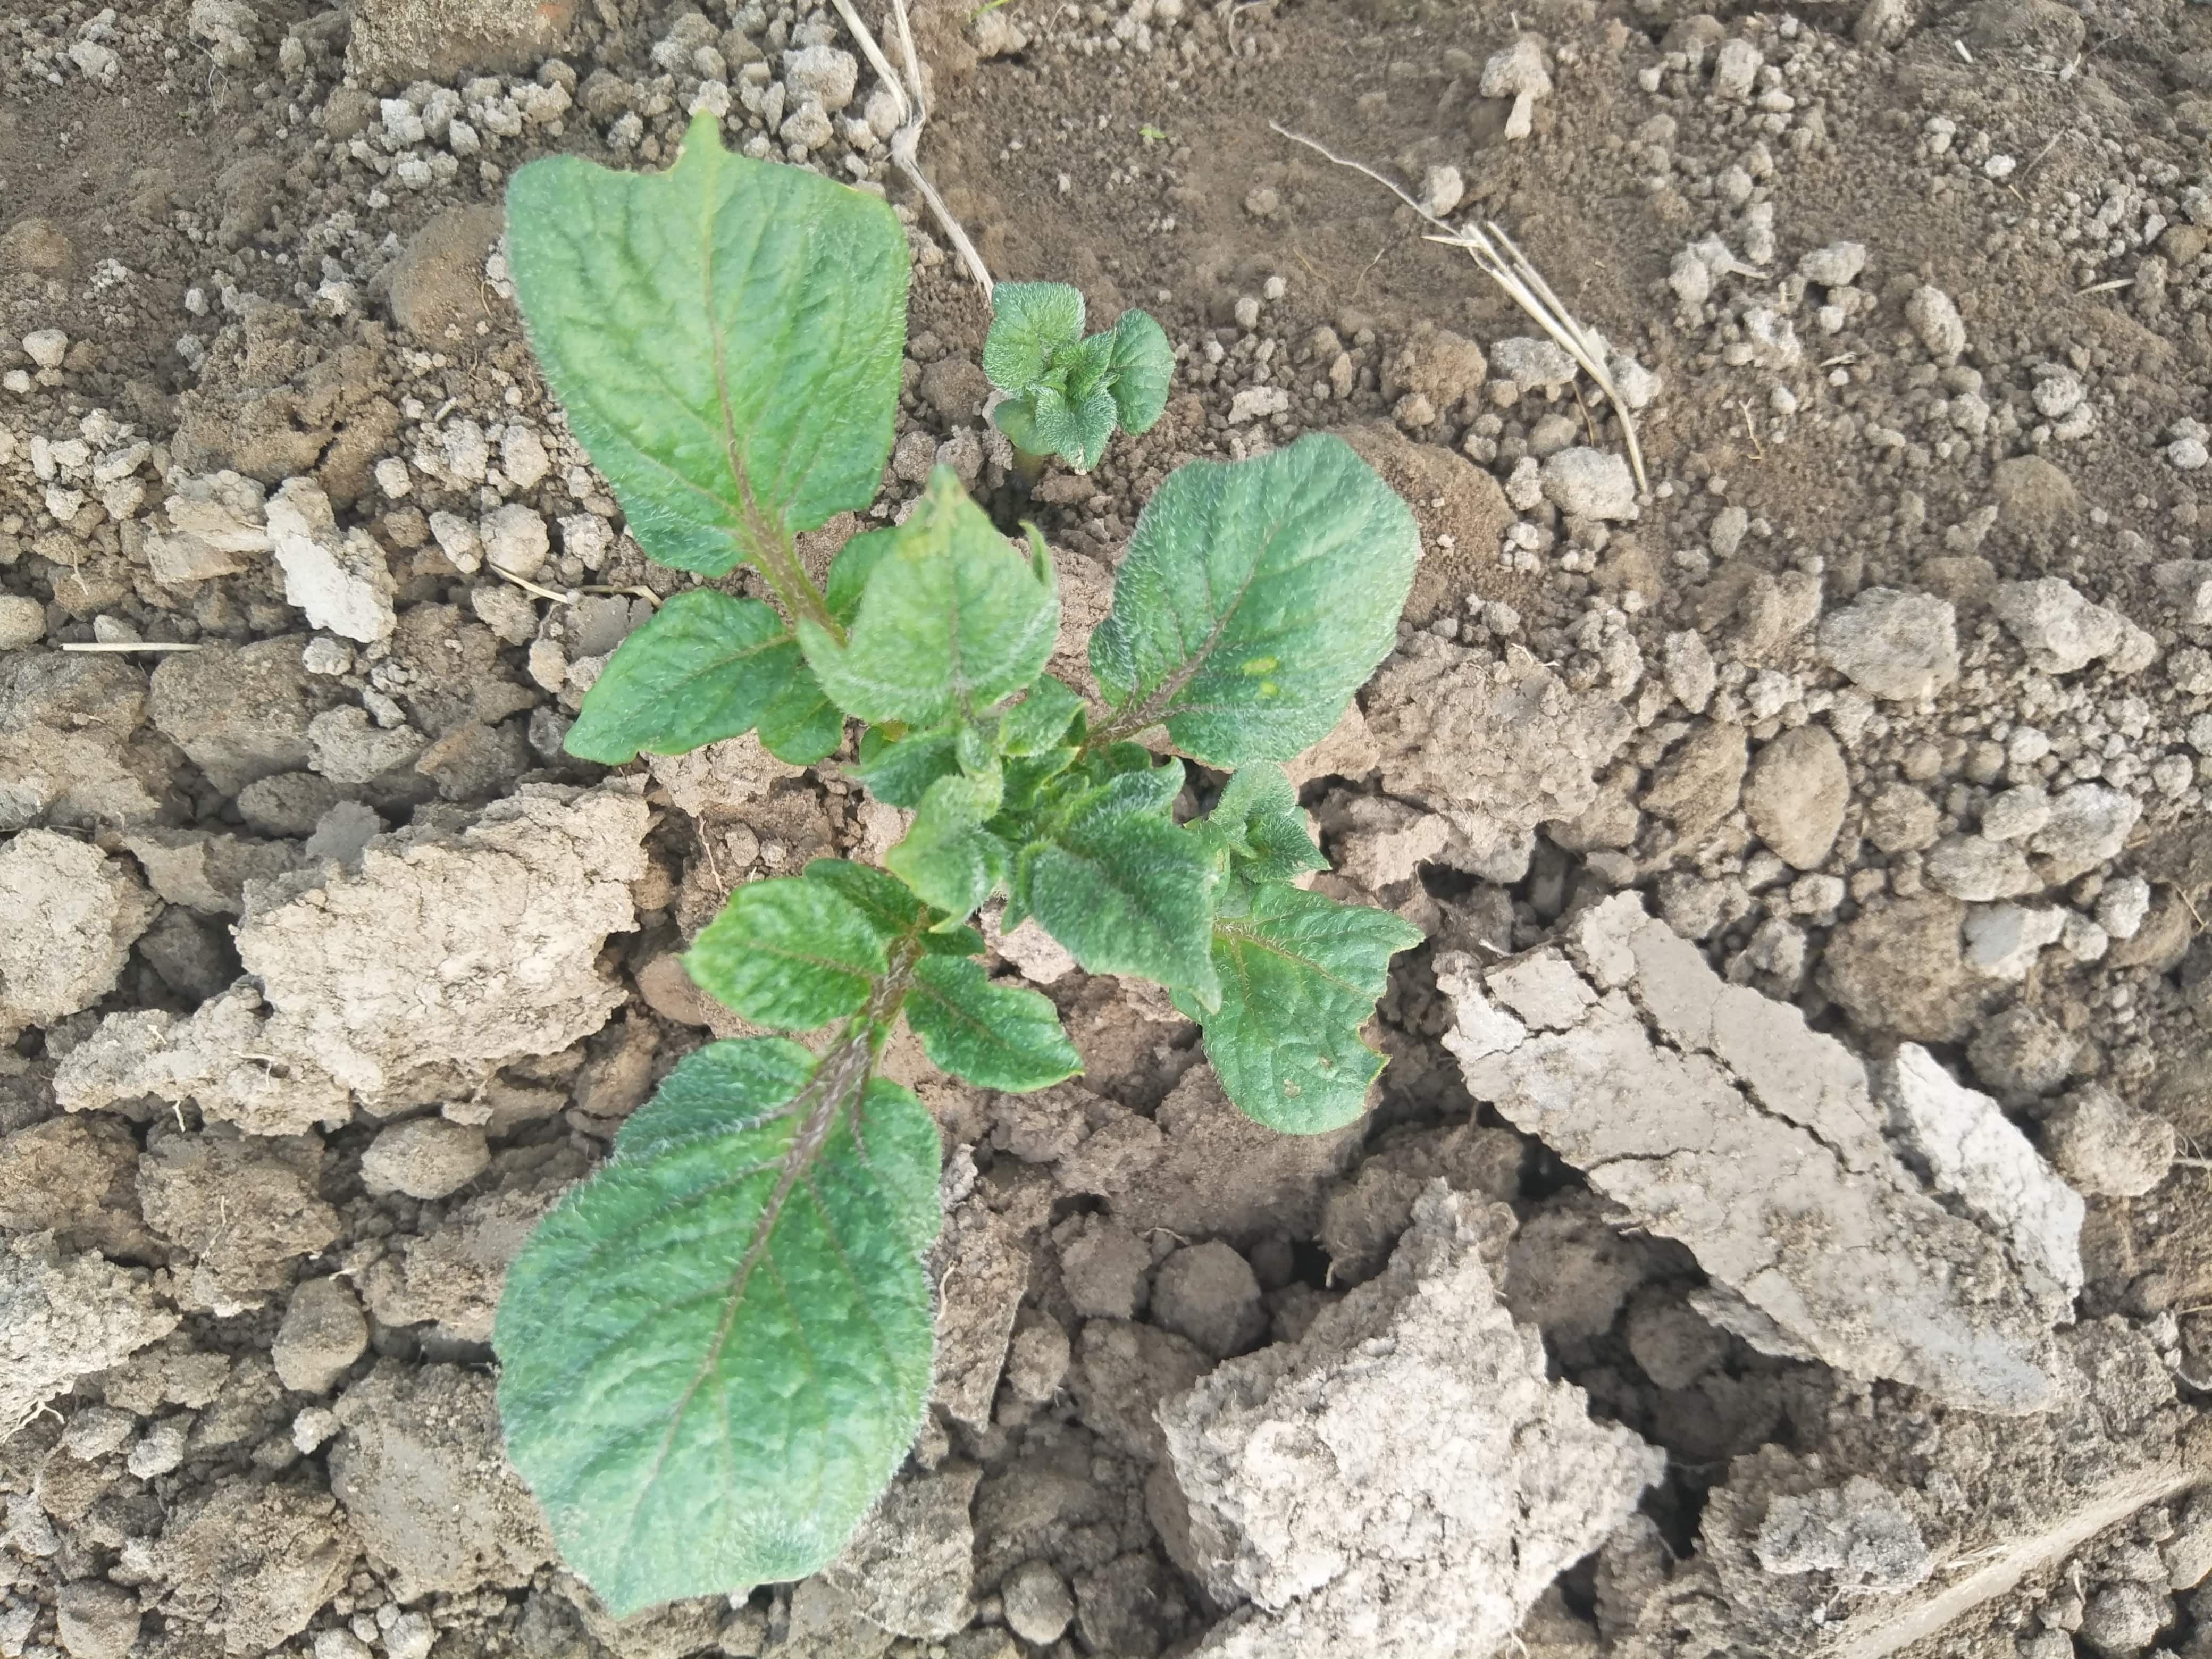daun: (510, 1032, 925, 1589), (498, 159, 892, 532), (1099, 432, 1413, 763), (808, 476, 1047, 720), (1179, 892, 1397, 1124), (571, 594, 801, 753), (1017, 826, 1223, 995), (683, 877, 878, 1021), (897, 955, 1096, 1084), (1195, 774, 1312, 892), (878, 789, 995, 899), (1029, 376, 1109, 479), (1099, 314, 1162, 439), (984, 301, 1069, 368)
